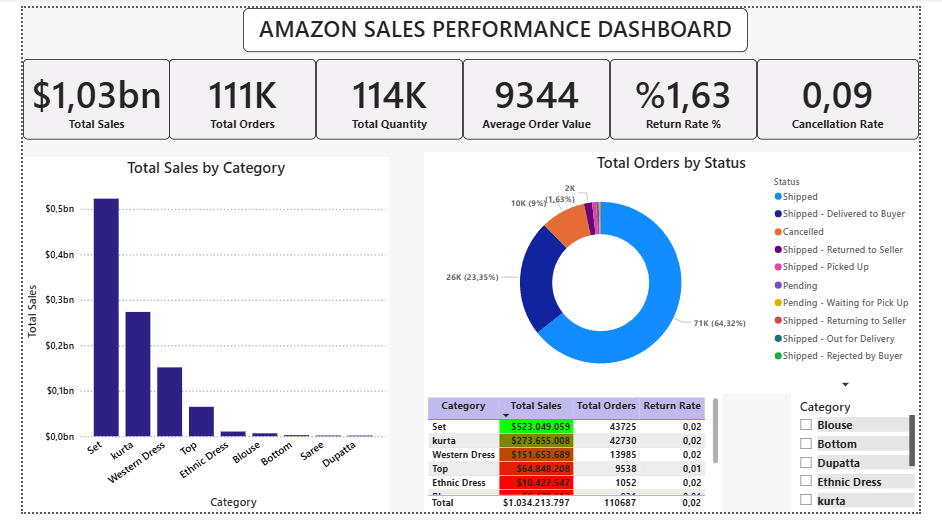

Layout of this report page (visuals, bound fields, positions):
{"tool":"powerbi","page":{"name":"KPI Overview","canvas":[1280,720],"ordinal":0},"visuals":[{"type":"card","fields":{"Values":["Amazon Sale Report.Total Sales"]},"box":[0,73.5,210.1,114.6],"z":0},{"type":"columnChart","fields":{"Y":["Amazon Sale Report.Total Sales"],"Category":["Amazon Sale Report.Category"]},"box":[0,213.1,523.1,506.9],"z":1000},{"type":"slicer","fields":{"Values":["Amazon Sale Report.Category"]},"box":[1097.6,551,182.2,169],"z":2000},{"type":"tableEx","fields":{"Values":["Amazon Sale Report.Category","Amazon Sale Report.Total Sales","Amazon Sale Report.Total Orders","Amazon Sale Report.Return Rate"]},"box":[573.1,551,426.1,169],"z":3000},{"type":"donutChart","fields":{"Category":["Amazon Sale Report.Status"],"Y":["Amazon Sale Report.Total Orders"]},"box":[573.1,205.7,706.8,345.3],"z":4000},{"type":"textbox","box":[314.4,0,721.5,63.2],"z":5000},{"type":"card","fields":{"Values":["Amazon Sale Report.Total Orders"]},"box":[208.7,73.5,210.1,114.6],"z":6000},{"type":"card","fields":{"Values":["Amazon Sale Report.Total Quantity"]},"box":[418.8,73.5,210.1,114.6],"z":7000},{"type":"card","fields":{"Values":["Amazon Sale Report.Average Order Value"]},"box":[628.9,73.5,210.1,114.6],"z":8000},{"type":"card","fields":{"Values":["Amazon Sale Report.Return Rate"]},"box":[839,73.5,210.1,114.6],"z":9000},{"type":"card","fields":{"Values":["Amazon Sale Report.Cancellation Rate"]},"box":[1049.1,73.5,230.7,114.6],"z":10000}]}

Visuals, with their boxes in screenshot pixels (x1, y1, x2, y2), scaled from the page's 1280x720 canvas onto the 942x532 screenshot:
card - Amazon Sale Report.Total Sales: 0, 54, 155, 139
columnChart - Amazon Sale Report.Total Sales x Amazon Sale Report.Category: 0, 157, 385, 531
slicer - Amazon Sale Report.Category: 808, 407, 941, 531
tableEx - Amazon Sale Report.Category x Amazon Sale Report.Total Sales: 422, 407, 735, 531
donutChart - Amazon Sale Report.Status x Amazon Sale Report.Total Orders: 422, 152, 941, 407
textbox: 231, 0, 762, 47
card - Amazon Sale Report.Total Orders: 154, 54, 308, 139
card - Amazon Sale Report.Total Quantity: 308, 54, 463, 139
card - Amazon Sale Report.Average Order Value: 463, 54, 617, 139
card - Amazon Sale Report.Return Rate: 617, 54, 772, 139
card - Amazon Sale Report.Cancellation Rate: 772, 54, 941, 139
